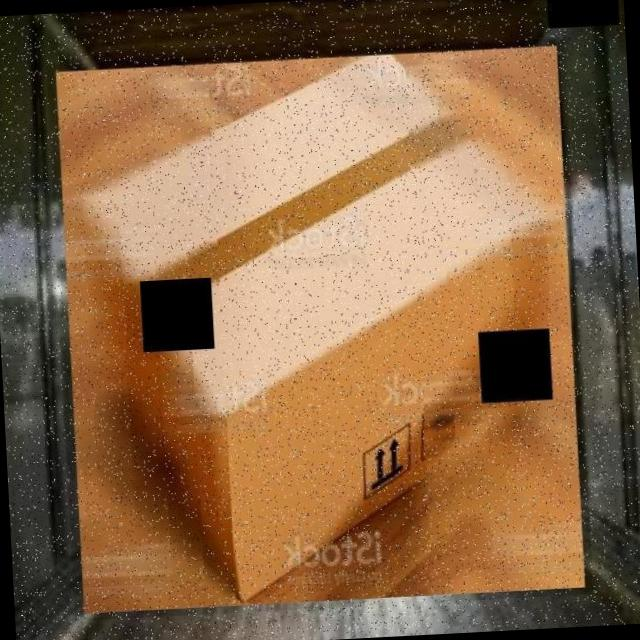box: (46, 39, 593, 622)
